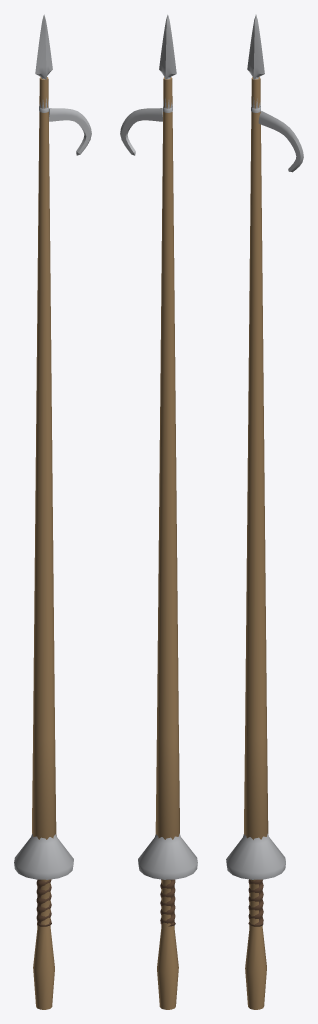
File: hooked-lance.glb
3 renders of one model, left to right at view 1: azimuth 30°, elevation 25°; view 2: azimuth 150°, elevation 25°; view 3: azimuth 330°, elevation 25°, orthographic.
Visible parts, largest first — view 1: hooked-lance; view 2: hooked-lance; view 3: hooked-lance.
Part boxes in pixels (bbox=[...]): hooked-lance: bbox=[14, 14, 91, 1009]; hooked-lance: bbox=[120, 14, 197, 1009]; hooked-lance: bbox=[226, 14, 303, 1009].
Size of the model in its own units: 0.5791 by 7.43 by 0.41.
